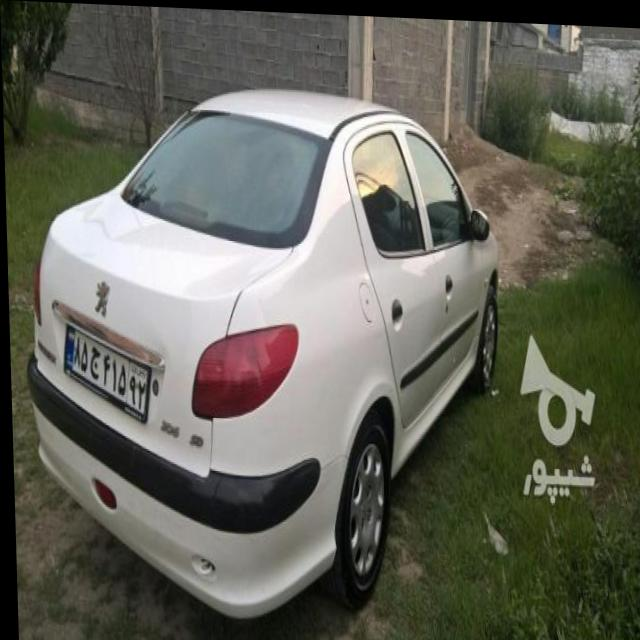licence: (59, 313, 147, 414)
